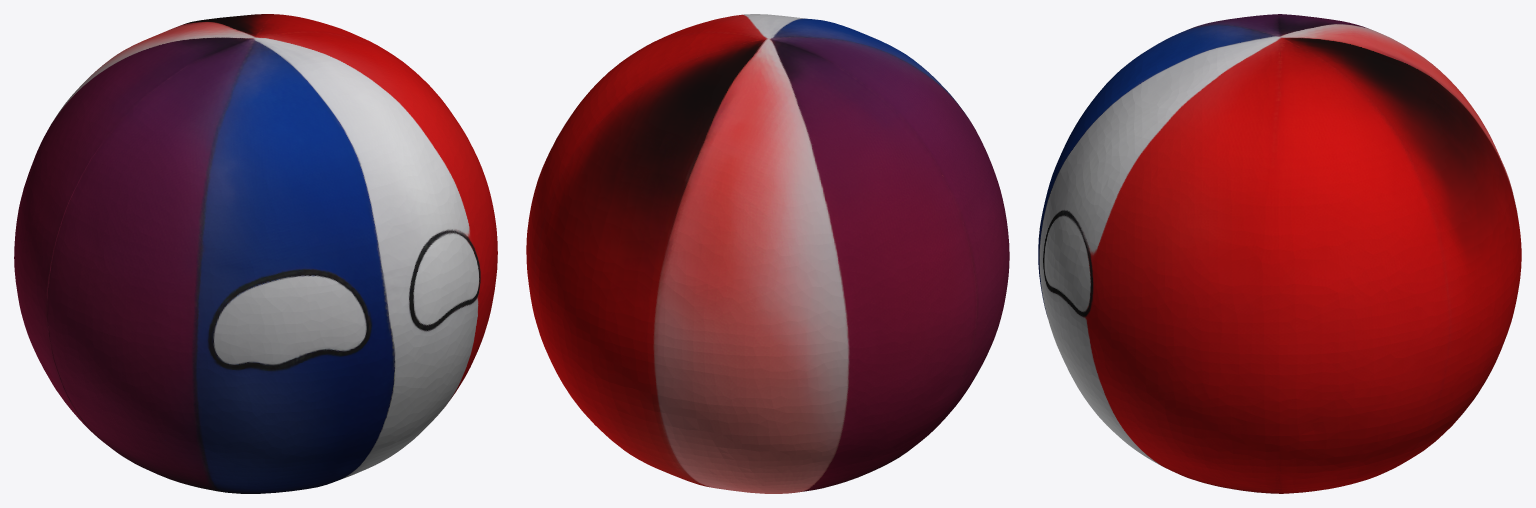
3 renders of one model, left to right at view 1: azimuth 30°, elevation 25°; view 2: azimuth 150°, elevation 25°; view 3: azimuth 270°, elevation 25°, orthographic.
Parts seen in each view (by area): view 1: world; view 2: world; view 3: world.
Boxes of the visible parts, x1,y1,x2,y2 form: world: (14,14,497,493); world: (526,14,1009,493); world: (1038,14,1521,493).
Size of the model in its own units: 0.9988 by 0.9879 by 0.9984.
Materials: 1 (1 with a texture image).
